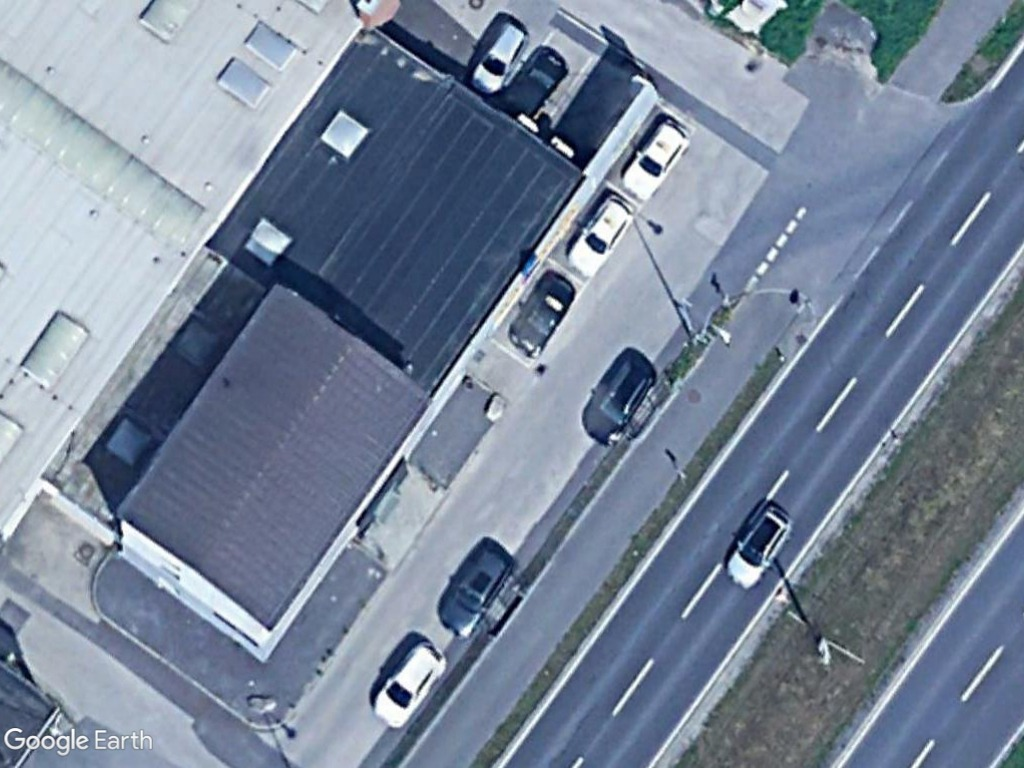car: (434, 537, 517, 640), (368, 638, 451, 728), (582, 352, 659, 448), (616, 117, 697, 203), (721, 500, 793, 592), (562, 189, 636, 277), (503, 272, 576, 360), (498, 48, 568, 120), (469, 20, 531, 96)
